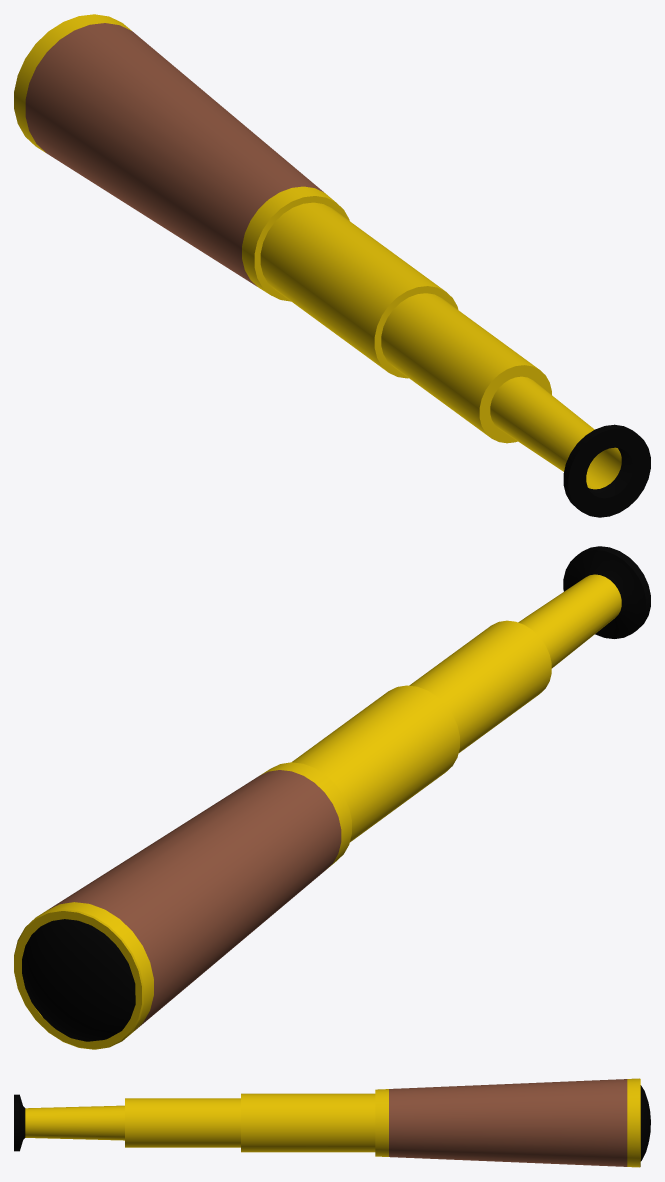
The model's file is kikkert.glb.
3 renders of one model, top to bottom at view 1: azimuth 30°, elevation 25°; view 2: azimuth 150°, elevation 25°; view 3: azimuth 270°, elevation 25°, orthographic. The views are drawn at different scales.
Parts seen in each view (by area): view 1: Cylinder; view 2: Cylinder; view 3: Cylinder.
Part boxes in pixels (x1,y1,x2,y2): Cylinder: (14, 14, 650, 517); Cylinder: (14, 546, 650, 1049); Cylinder: (14, 1078, 650, 1167).
Size of the model in its own units: 0.3118 by 0.3141 by 2.25.
